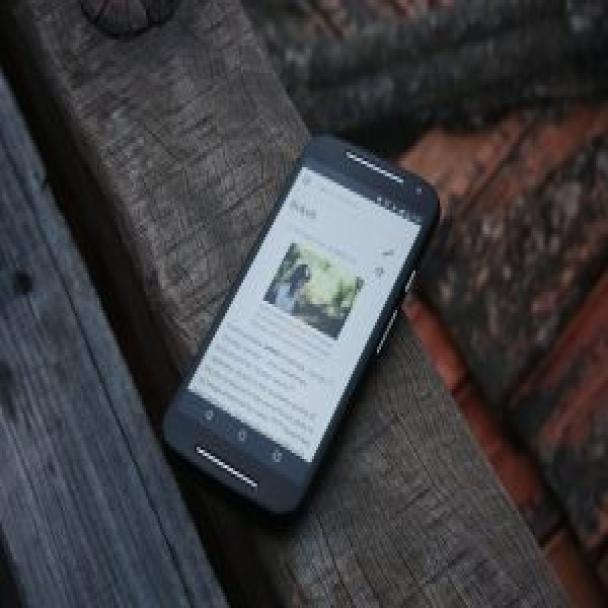Handphone: (148, 115, 461, 548)
